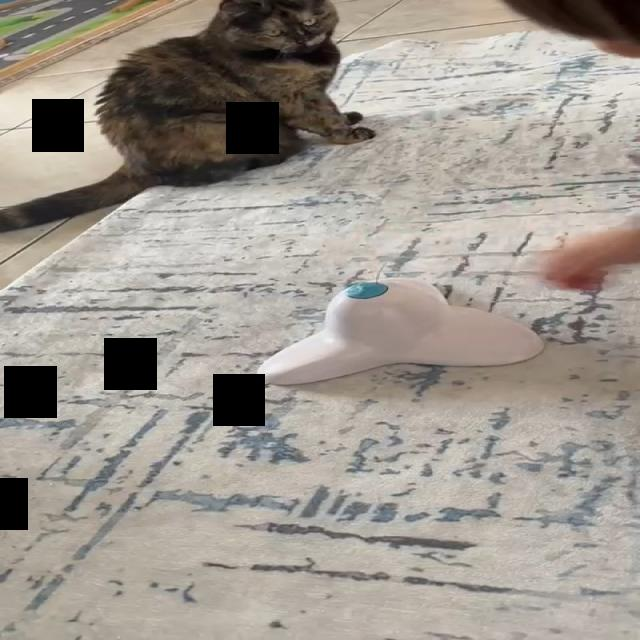authorized: (0, 0, 376, 233)
